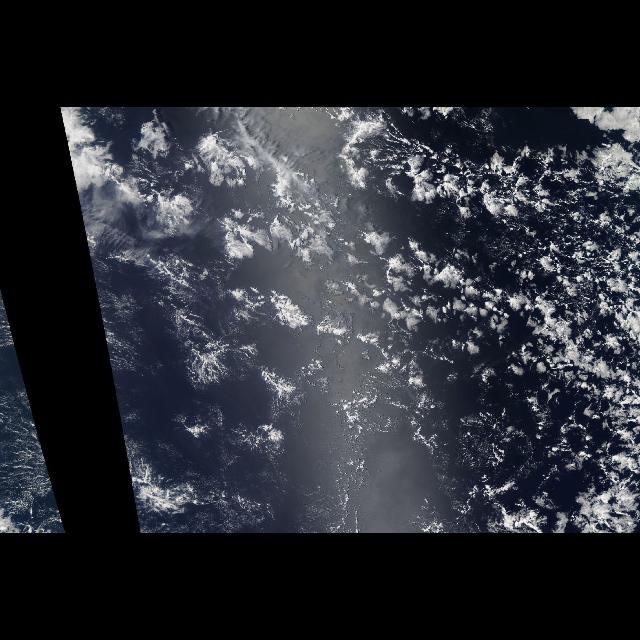Flower: (170, 108, 396, 348)
